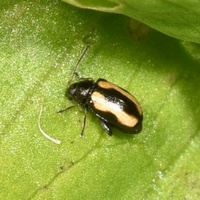insect: (58, 46, 142, 134)
